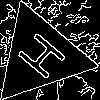H: (15, 30, 76, 88)
